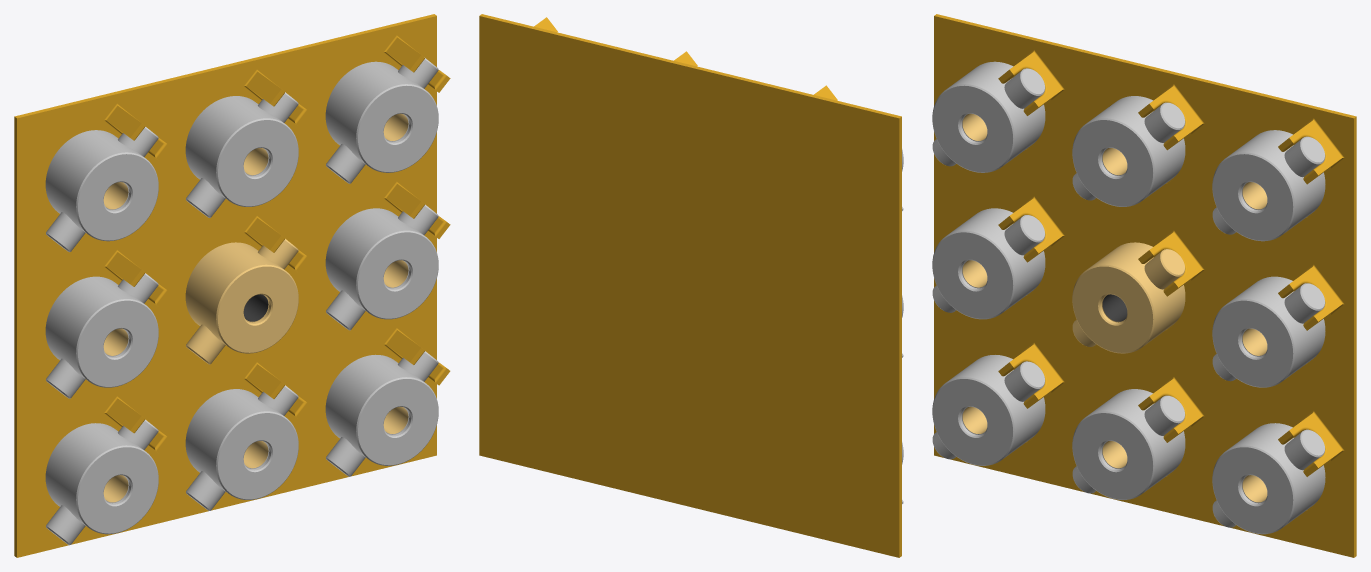
Rendered from Trunnino Try With Trunnion.fbx.
The picture shows the model from 3 angles, left to right: view 1: azimuth 30°, elevation 25°; view 2: azimuth 150°, elevation 25°; view 3: azimuth 330°, elevation 25°; orthographic projection.
Visible parts, largest first — view 1: Body1 (×10); view 2: Body1; view 3: Body1 (×10).
Part boxes in pixels (left/top/right/bottom): Body1 (×10): left=14, top=14, right=450, bottom=557; Body1: left=479, top=14, right=901, bottom=557; Body1 (×10): left=932, top=14, right=1356, bottom=557.
Bounding box in the file's own units: 914 × 914 × 127.
